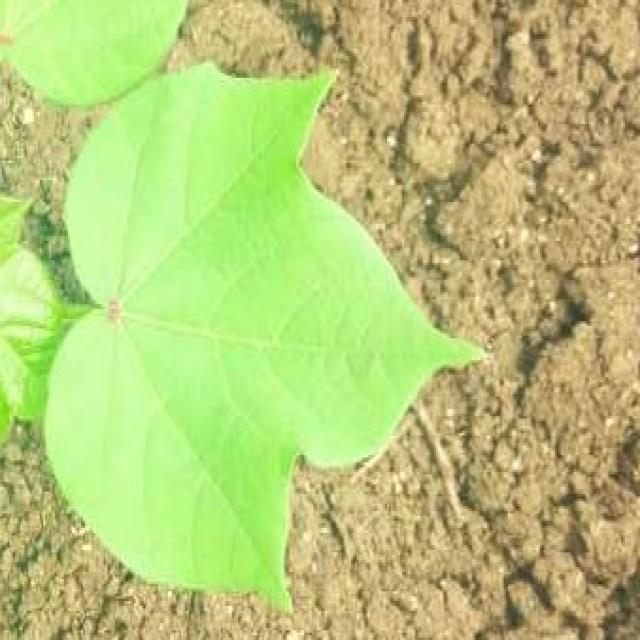Healthy Leaf: (95, 157, 289, 557)
